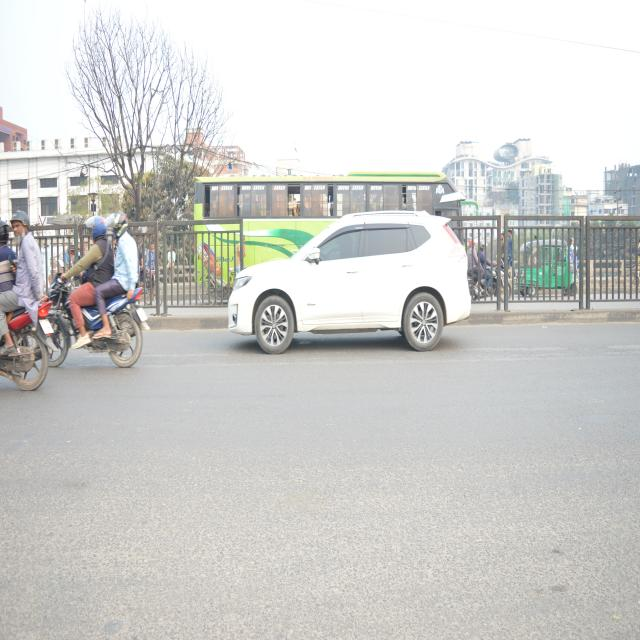car: (215, 211, 483, 385)
motorbike: (33, 265, 171, 381), (0, 288, 66, 399)
